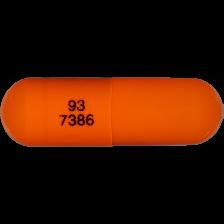35356-580: (0, 0, 224, 224)
